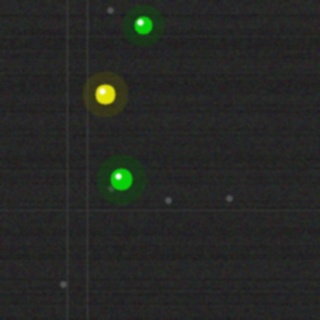green_normal: (108, 166, 134, 192), (132, 14, 154, 36)
yellow_warning: (93, 82, 117, 106)
